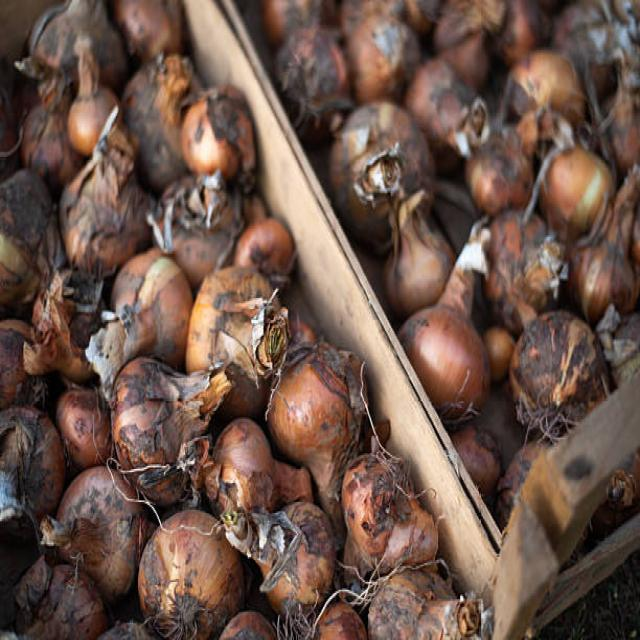rotten: (16, 0, 639, 638), (448, 49, 590, 226)
